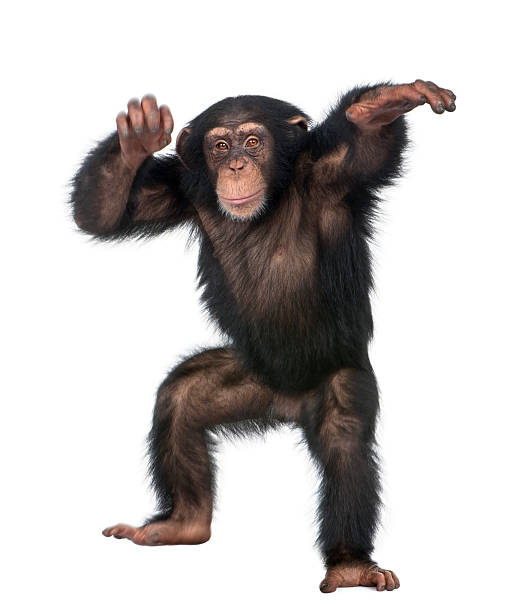chimpanzee: (168, 80, 321, 242)
